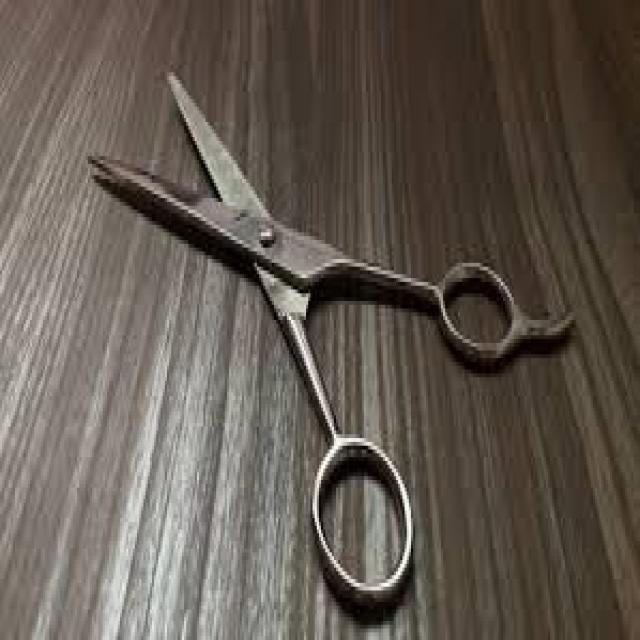scissor: (88, 65, 578, 617)
